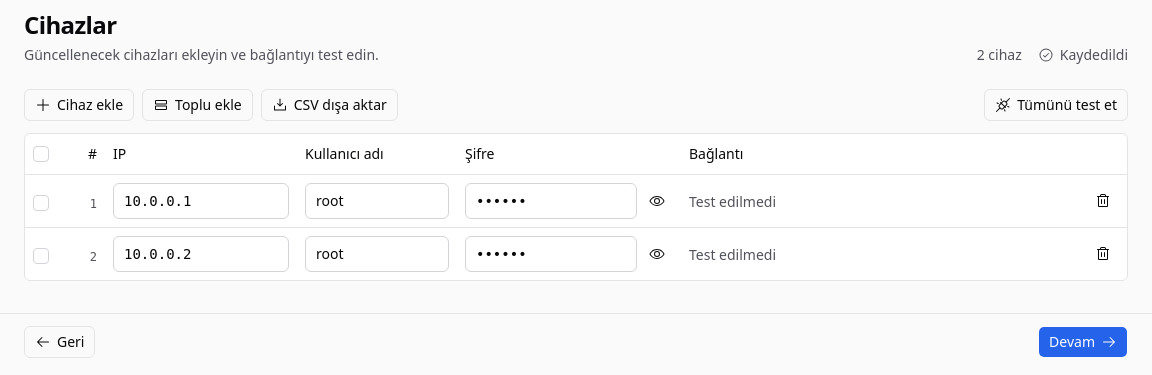
DevicesStep › masks passwords and reveals one on request
What coordinates should you click on to do the following:
click the 1st button named "Şifreyi göster"
I would click on:
 (657, 200)
Its box is [641,184,673,216].
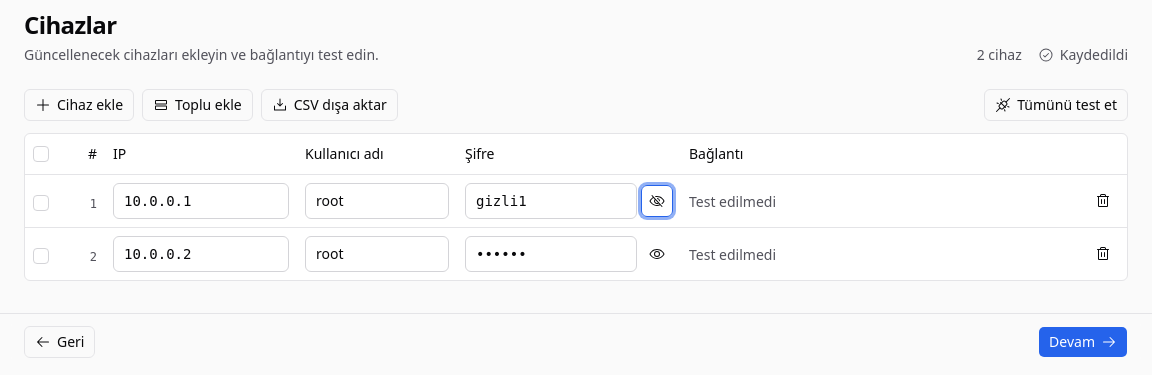
Now the field named "Şifre, satır 1" shows its text, box [465,182,637,218]
